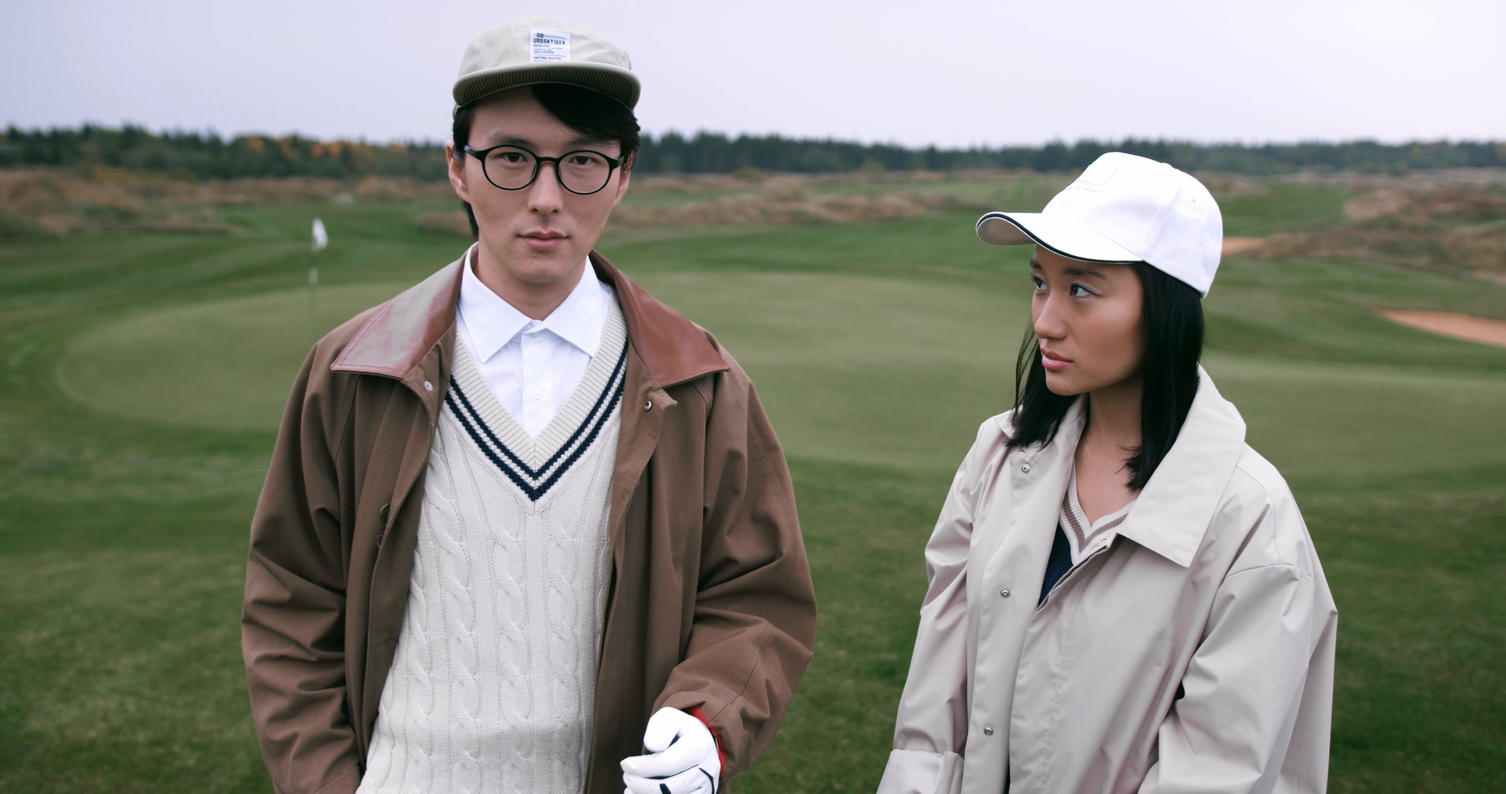gloves: (620, 691, 763, 794)
